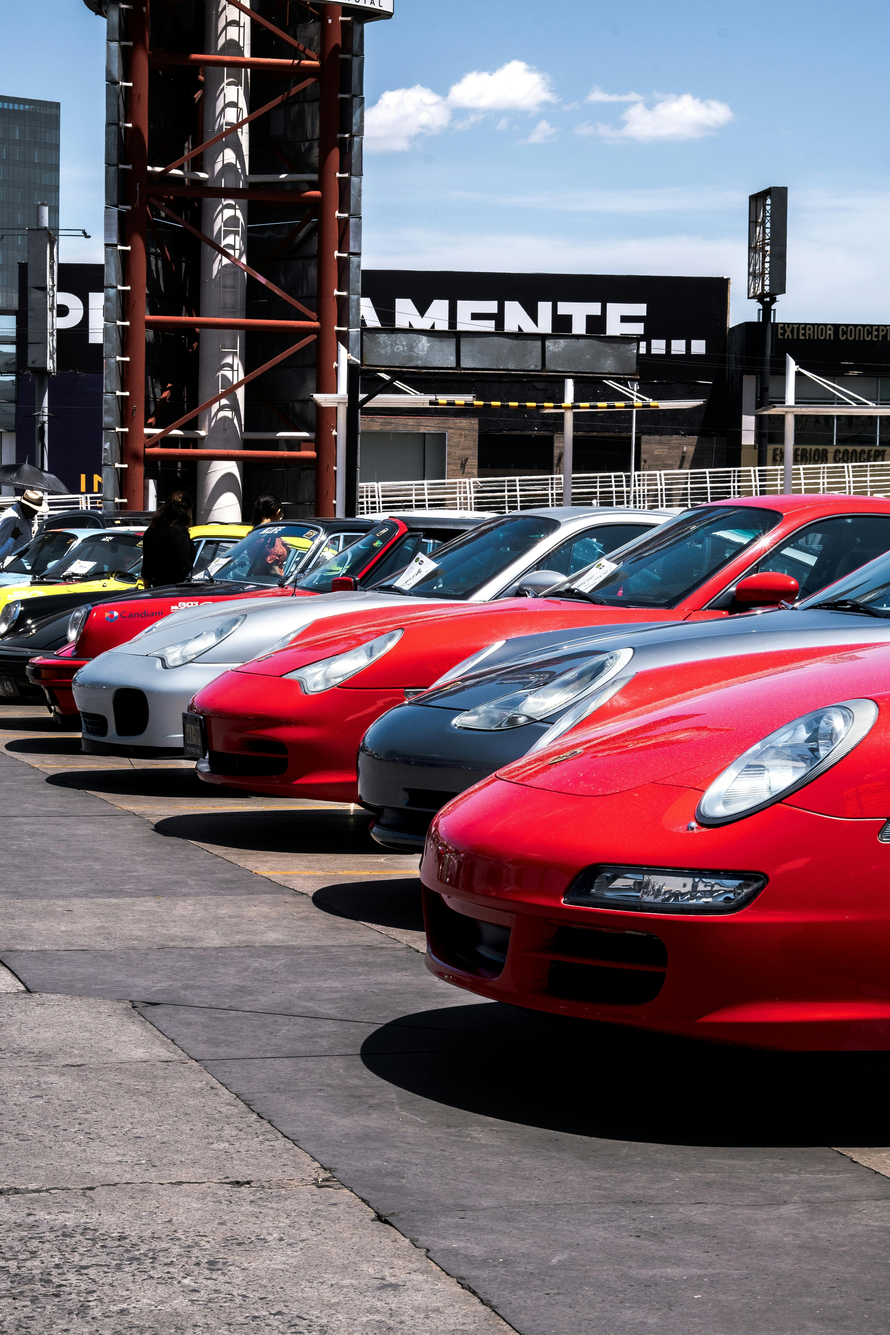other: (416, 630, 890, 1048)
